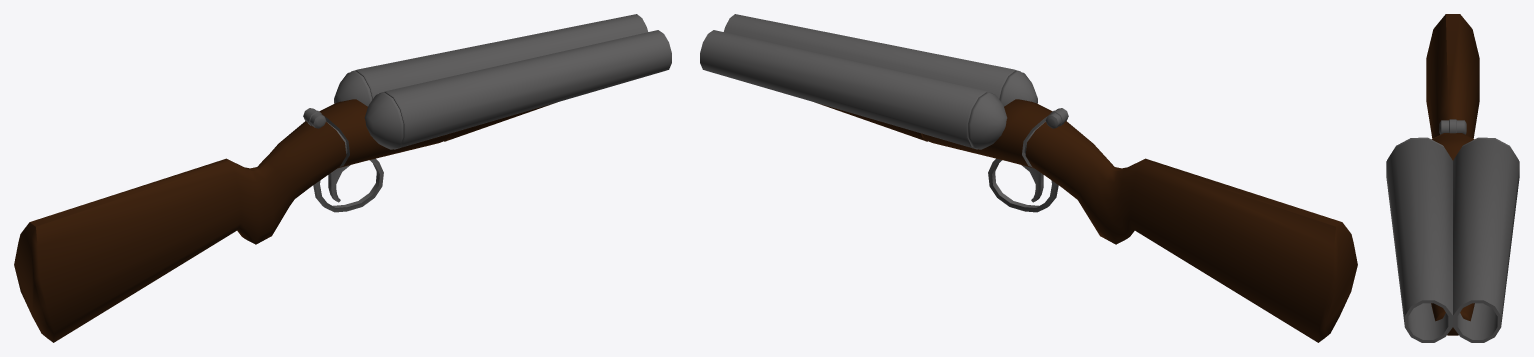
The model's file is Gun_Lower_Shotgun.fbx.
The picture shows the model from 3 angles, left to right: view 1: azimuth 30°, elevation 25°; view 2: azimuth 150°, elevation 25°; view 3: azimuth 270°, elevation 25°; orthographic projection. The views are drawn at different scales.
Visible parts, largest first — view 1: Shotgun#; view 2: Shotgun#; view 3: Shotgun#.
Boxes of the visible parts, box(x1,y1,x2,y2) form: Shotgun#: box(14, 14, 671, 342); Shotgun#: box(700, 14, 1357, 342); Shotgun#: box(1386, 14, 1519, 342).
Size of the model in its own units: 473 by 129 by 76.51.
